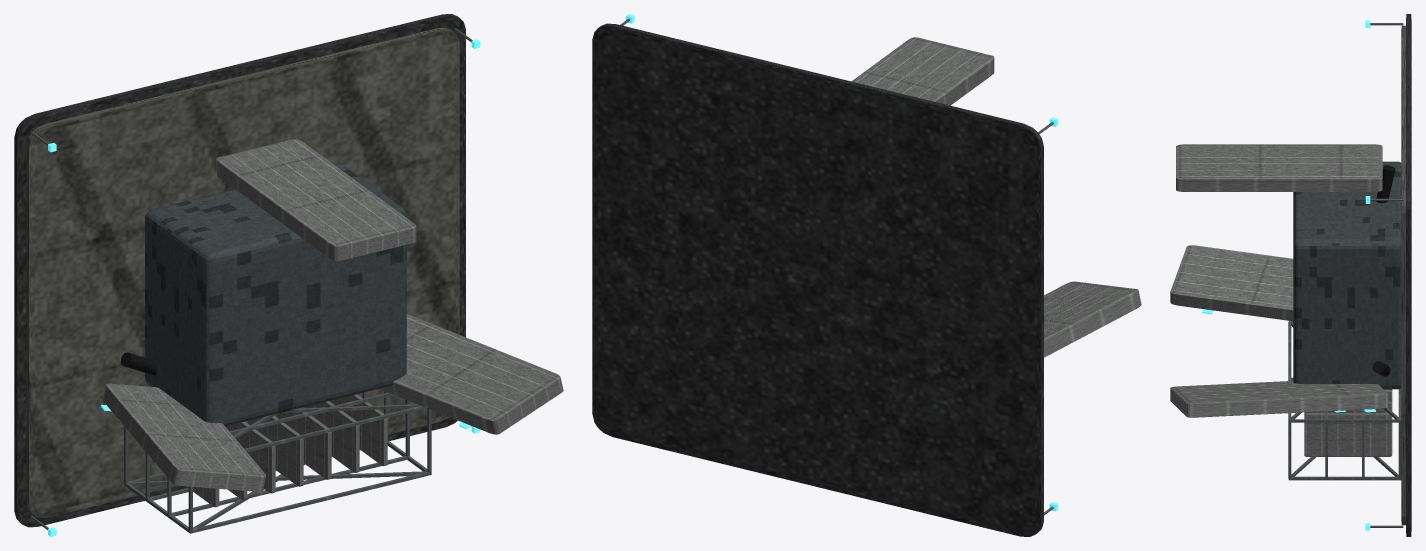
Rendered from b-41-shield-generator-lod0.glb.
3 renders of one model, left to right at view 1: azimuth 30°, elevation 25°; view 2: azimuth 150°, elevation 25°; view 3: azimuth 270°, elevation 25°, orthographic. The views are drawn at different scales.
Parts seen in each view (by area): view 1: foundation_inner_pad, core_power_block, foundation, primary_emitter_2, primary_emitter_1, primary_emitter_0, radiator_fin_4, radiator_fin_5, radiator_fin_3, radiator_fin_6, radiator_fin_2, radiator_bank_beam_x_3_s (+4 smaller); view 2: foundation, primary_emitter_2, primary_emitter_0; view 3: core_power_block, primary_emitter_2, primary_emitter_0, primary_emitter_1, radiator_fin_6, foundation, foundation_inner_pad, radiator_bank_column_e_s, radiator_bank_column_e_n, shield_cable_2_segment_2.
Part boxes in pixels (x1=…): foundation_inner_pad: x1=26, y1=28, x2=459, y2=517; core_power_block: x1=145, y1=164, x2=406, y2=426; foundation: x1=14, y1=14, x2=465, y2=527; primary_emitter_2: x1=216, y1=139, x2=416, y2=261; primary_emitter_1: x1=379, y1=314, x2=563, y2=434; primary_emitter_0: x1=103, y1=383, x2=265, y2=491; radiator_fin_4: x1=276, y1=408, x2=331, y2=479; radiator_fin_5: x1=304, y1=401, x2=359, y2=472; radiator_fin_3: x1=248, y1=416, x2=303, y2=486; radiator_fin_6: x1=332, y1=394, x2=387, y2=466; radiator_fin_2: x1=225, y1=421, x2=275, y2=493; radiator_bank_beam_x_3_s: x1=189, y1=472, x2=431, y2=533; foundation: x1=592, y1=23, x2=1043, y2=536; primary_emitter_2: x1=851, y1=37, x2=994, y2=105; primary_emitter_0: x1=1044, y1=281, x2=1141, y2=357; core_power_block: x1=1293, y1=161, x2=1401, y2=389; primary_emitter_2: x1=1176, y1=144, x2=1382, y2=191; primary_emitter_0: x1=1170, y1=245, x2=1293, y2=321; primary_emitter_1: x1=1170, y1=381, x2=1388, y2=417; radiator_fin_6: x1=1304, y1=413, x2=1392, y2=456; foundation: x1=1406, y1=14, x2=1411, y2=536; foundation_inner_pad: x1=1401, y1=25, x2=1405, y2=525; radiator_bank_column_e_s: x1=1291, y1=476, x2=1398, y2=480; radiator_bank_column_e_n: x1=1291, y1=419, x2=1398, y2=422; shield_cable_2_segment_2: x1=1376, y1=165, x2=1395, y2=203.
Size of what is drawn, in the model's own units: 16 by 14 by 8.76.
Materials: 7 (7 with a texture image).
